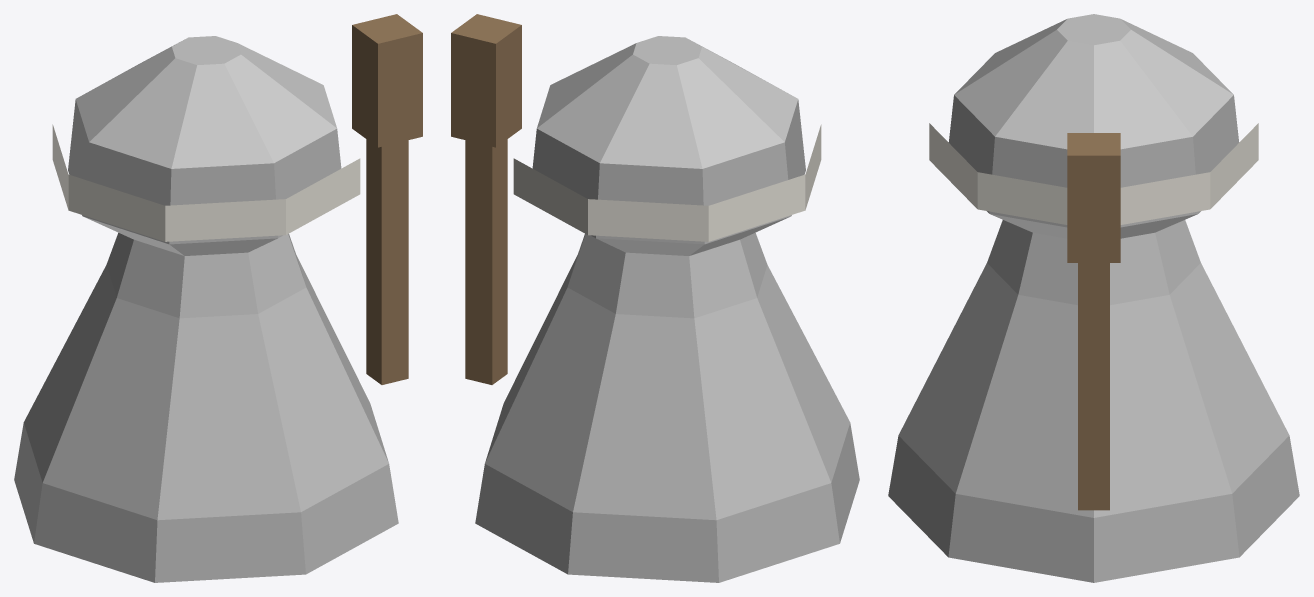
File: follower.optimized.glb
The picture shows the model from 3 angles, left to right: view 1: azimuth 30°, elevation 25°; view 2: azimuth 150°, elevation 25°; view 3: azimuth 270°, elevation 25°; orthographic projection. The views are drawn at different scales.
Parts seen in each view (by area): view 1: follower; view 2: follower; view 3: follower.
Boxes of the visible parts, x1,y1,x2,y2 form: follower: (14, 14, 422, 582); follower: (451, 14, 859, 582); follower: (888, 14, 1299, 582).
Bounding box in the file's own units: 1.57 × 1.8 × 1.44.
